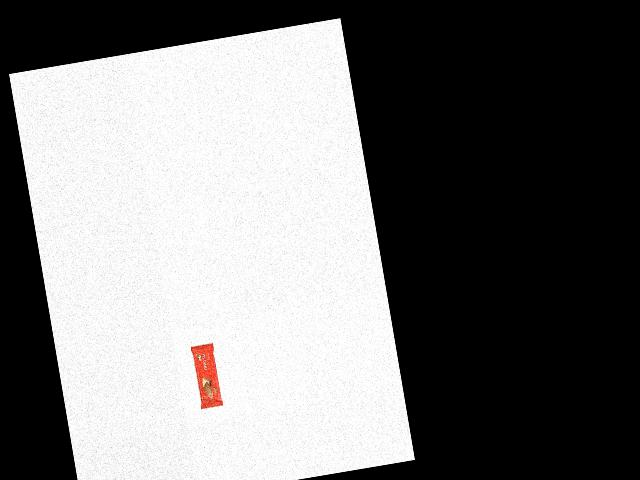chocolate: (190, 340, 224, 408)
